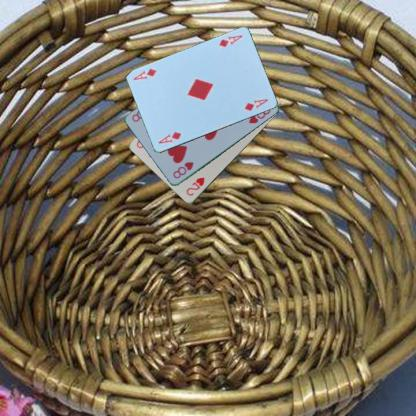2h: (184, 175, 206, 197)
8h: (170, 160, 195, 180)
Ad: (156, 129, 183, 145), (216, 32, 243, 48)
